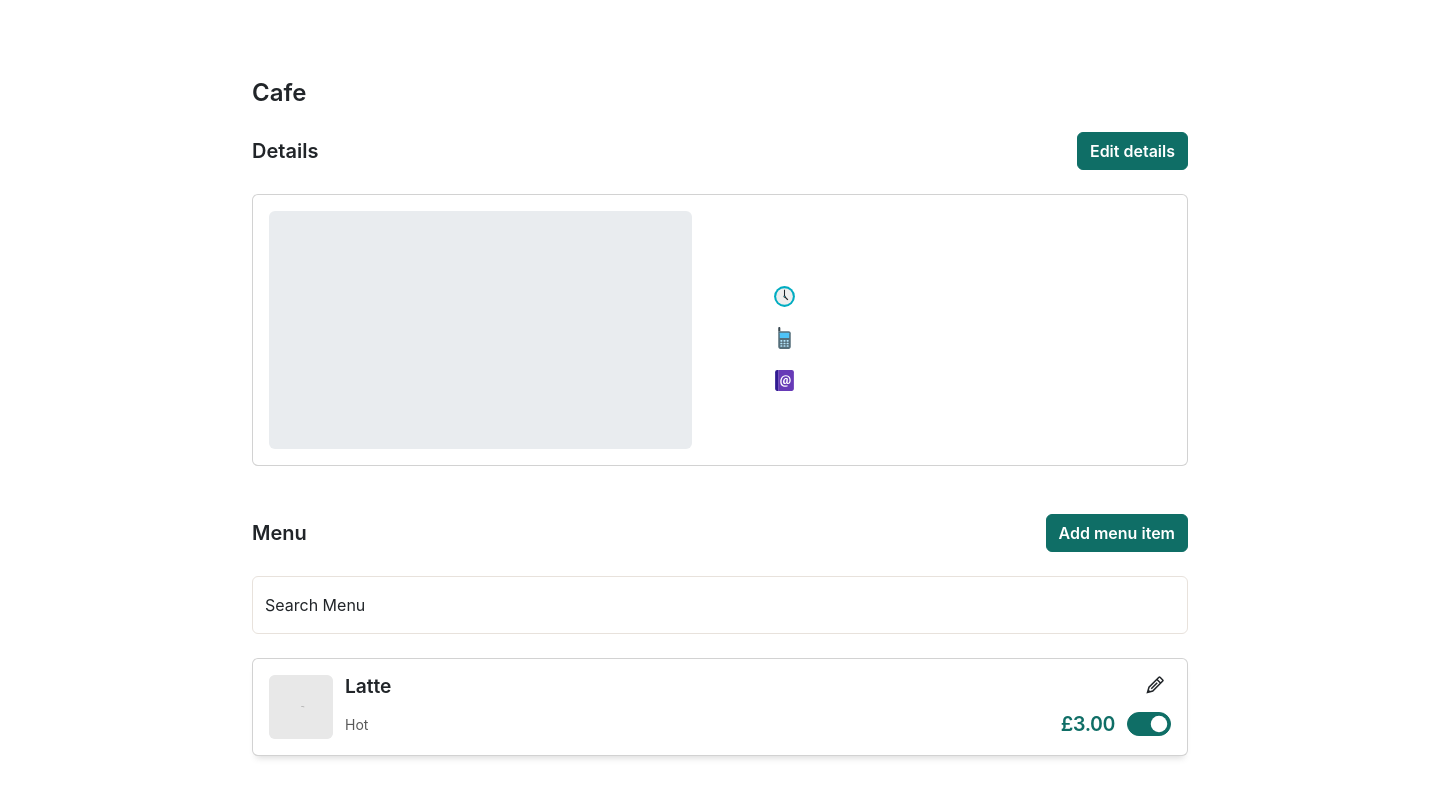
Test: the manager's shop page › shows the saved details once Edit details is saved
Expected: the heading "Latte" is shown, x1=345 y1=674 x2=392 y2=698
Expected: the heading "Cafe" is shown, x1=252 y1=79 x2=306 y2=108
Click the button "Edit details" at (1132, 151), box x1=1077 y1=132 x2=1188 y2=170
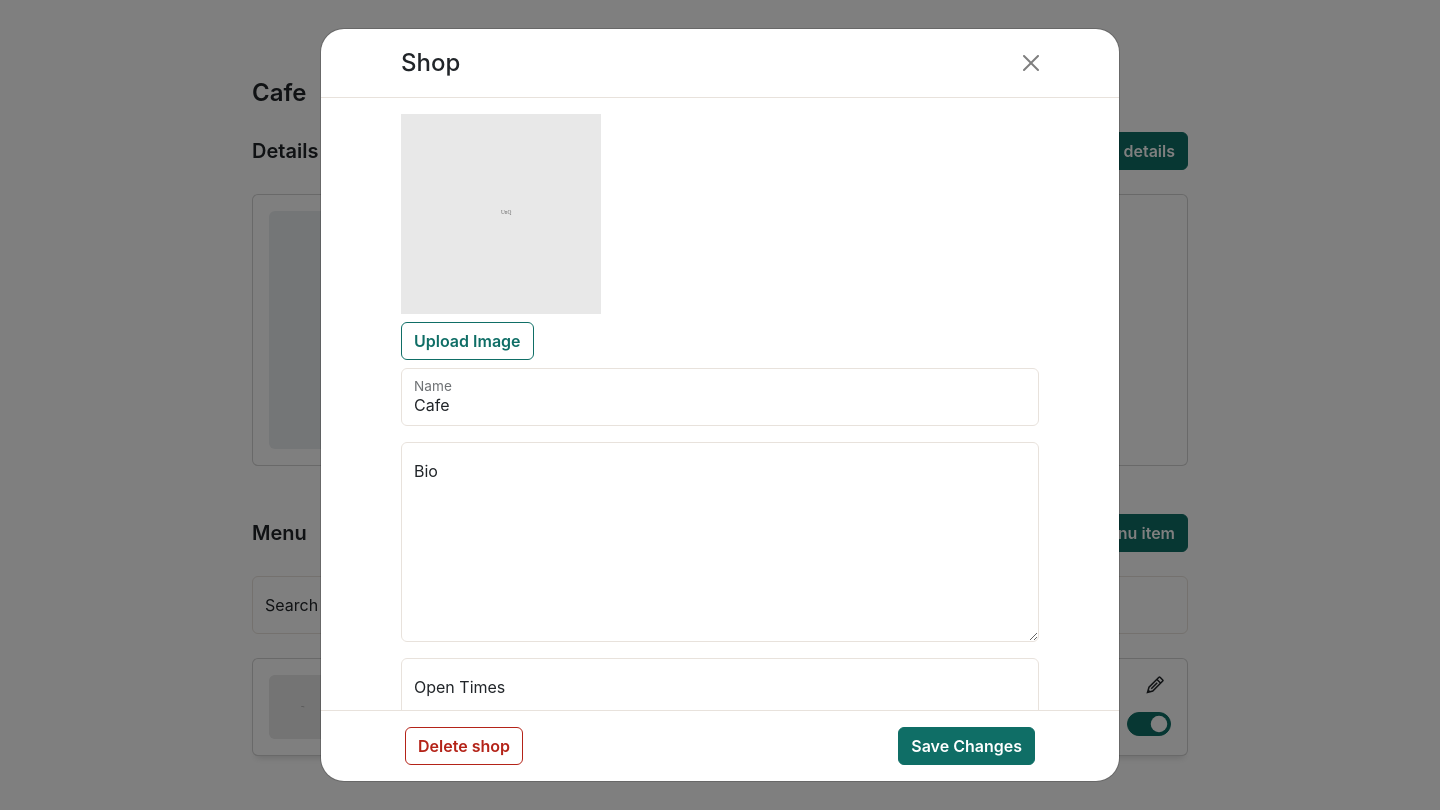
Now the field with placeholder "Name" holds "Cafe"
Replace the text in the field with placeholder "Name" with "Corner Cafe" at (720, 397), box x1=401 y1=368 x2=1039 y2=426
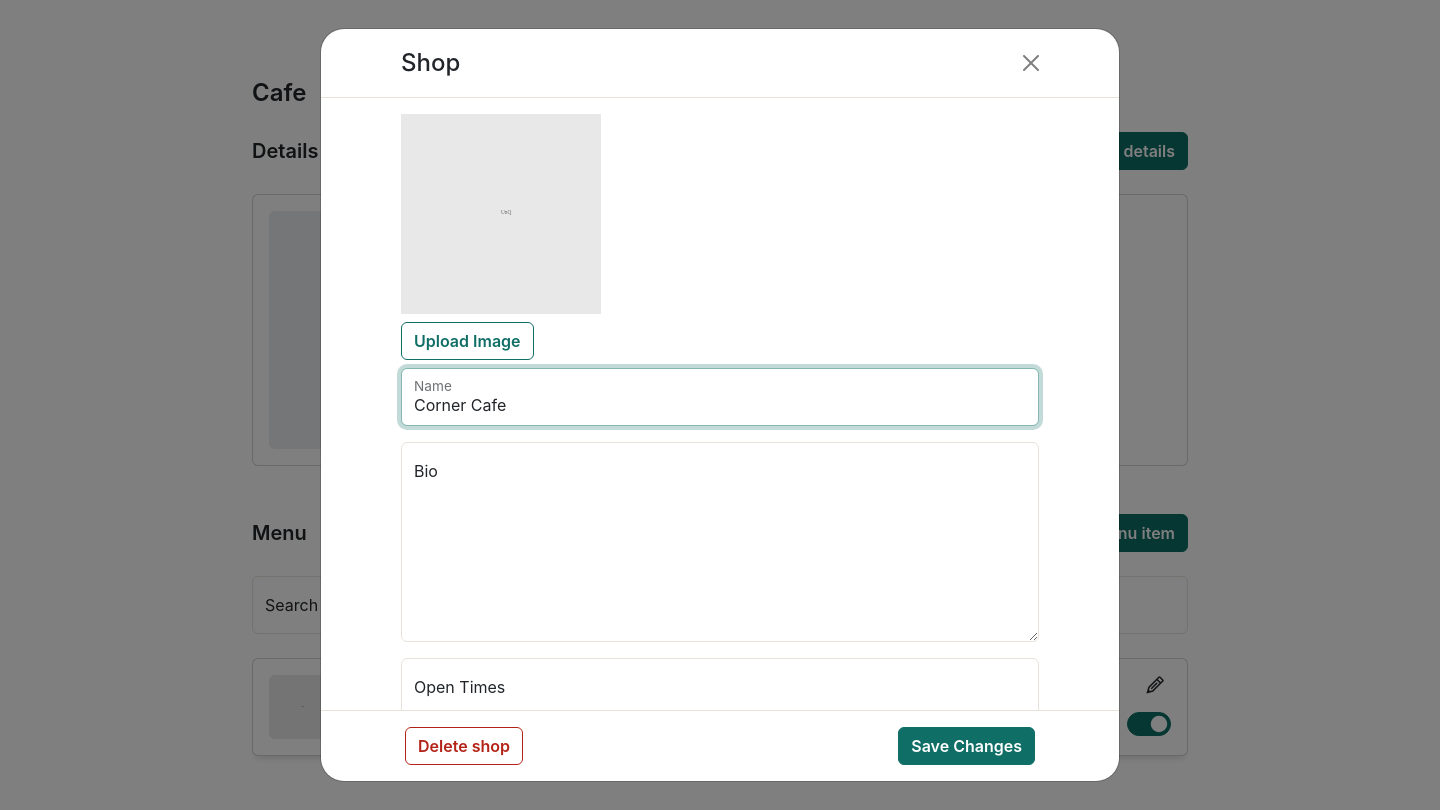
Click the button "Save Changes" at (967, 746), box x1=898 y1=727 x2=1035 y2=765
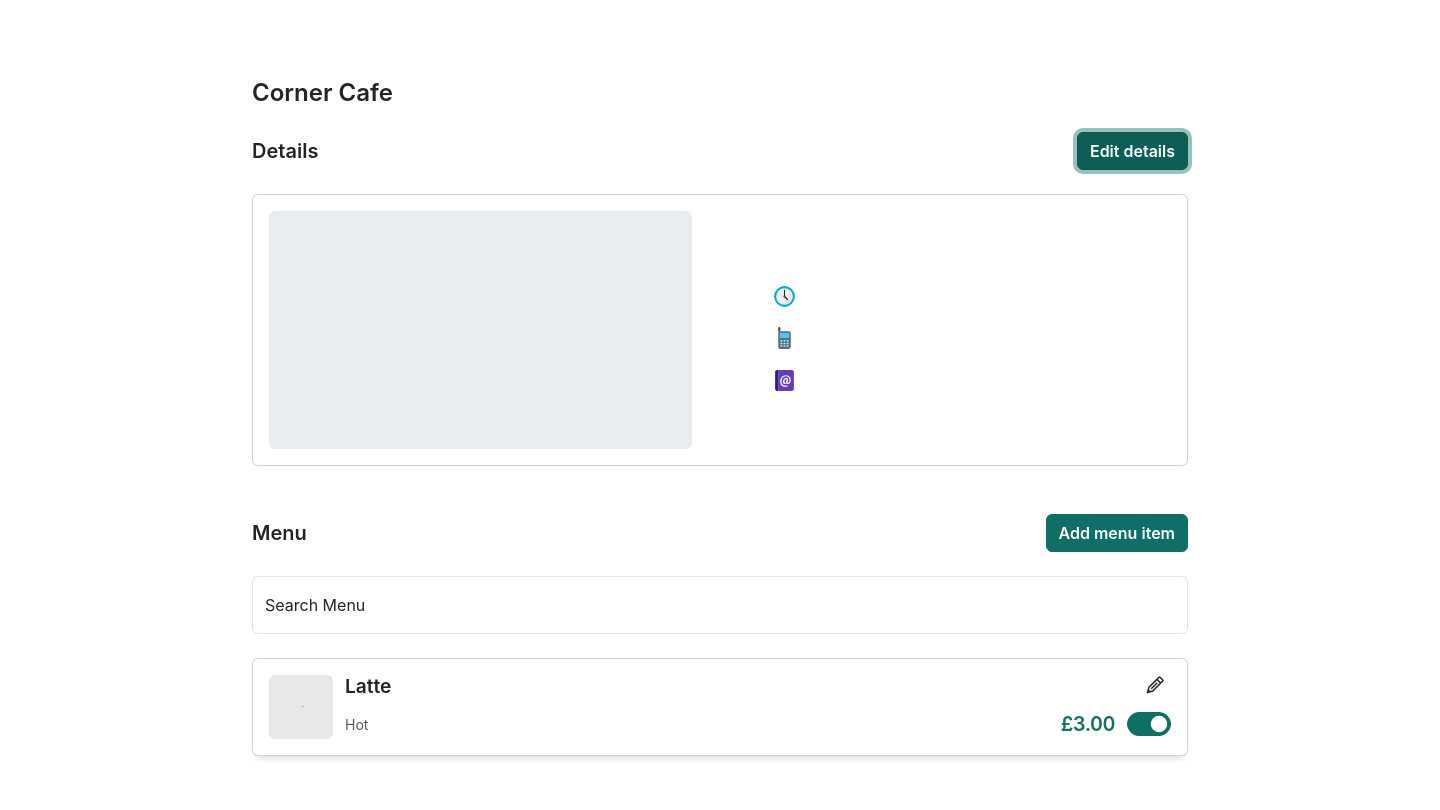
Now the heading "Corner Cafe" is shown, box x1=252 y1=79 x2=393 y2=108
